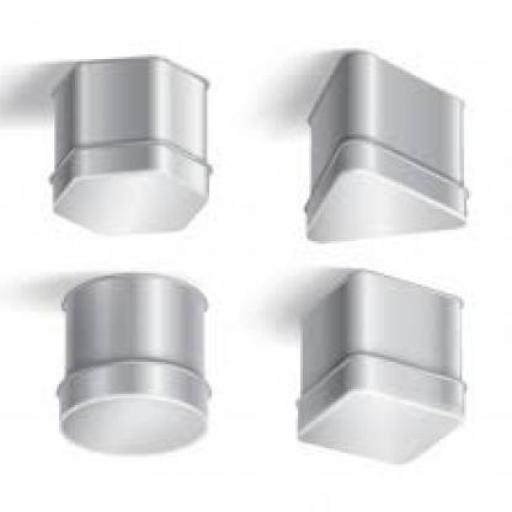metal: (298, 271, 466, 471), (307, 52, 473, 248), (52, 59, 214, 239), (59, 278, 217, 460)
